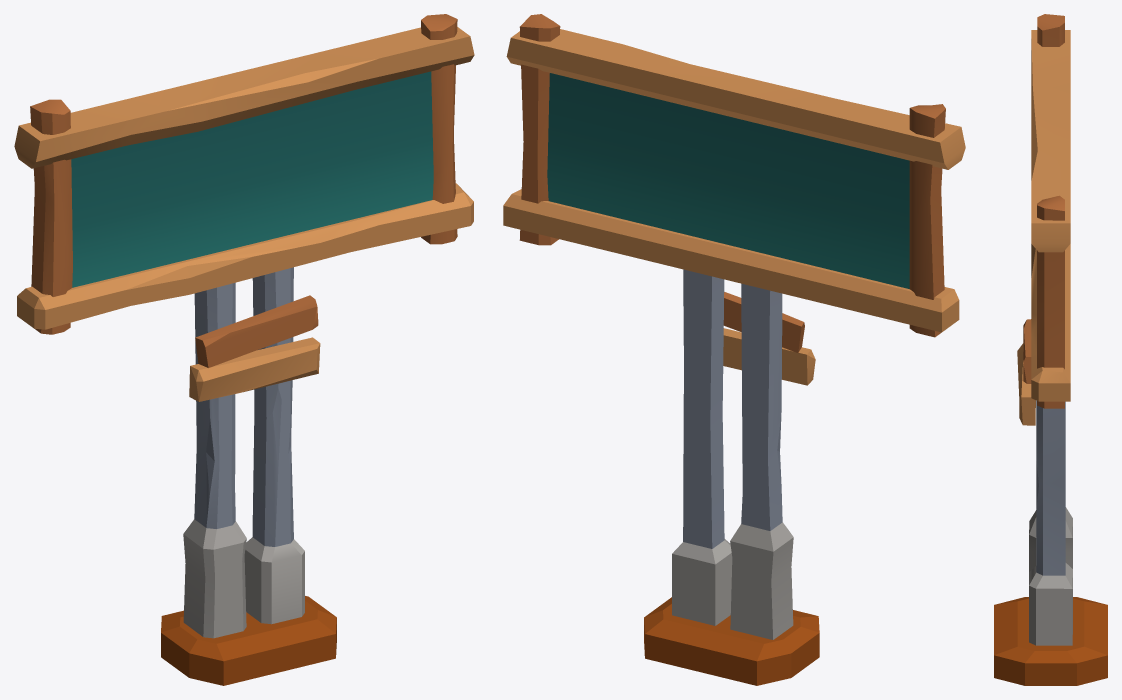
File: Build_Board01.FBX
3 renders of one model, left to right at view 1: azimuth 30°, elevation 25°; view 2: azimuth 150°, elevation 25°; view 3: azimuth 270°, elevation 25°, orthographic. The views are drawn at different scales.
Parts seen in each view (by area): view 1: Build_Board01; view 2: Build_Board01; view 3: Build_Board01.
Part boxes in pixels (left/top/right/bottom): Build_Board01: left=14, top=14, right=474, bottom=685; Build_Board01: left=503, top=14, right=965, bottom=685; Build_Board01: left=994, top=14, right=1107, bottom=685.
Size of the model in its own units: 237 by 302 by 57.39.
Materials: 1 (1 with a texture image).
